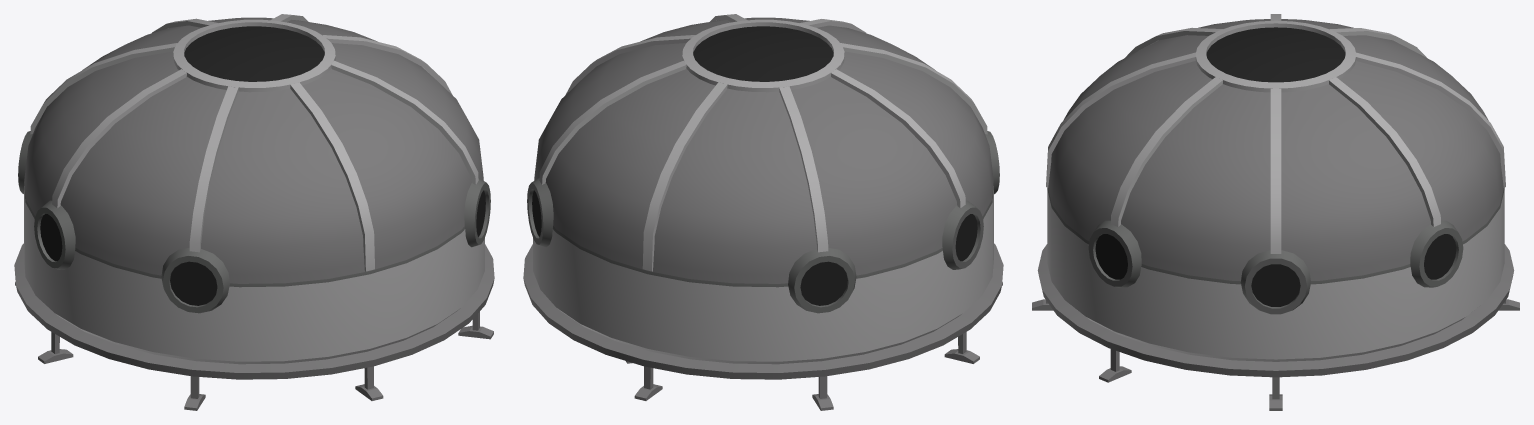
Rendered from Base_Large_Cube.obj.
The picture shows the model from 3 angles, left to right: view 1: azimuth 30°, elevation 25°; view 2: azimuth 150°, elevation 25°; view 3: azimuth 270°, elevation 25°; orthographic projection.
Visible parts, largest first — view 1: Base_Large_Cube.001; view 2: Base_Large_Cube.001; view 3: Base_Large_Cube.001.
Boxes of the visible parts, <box> form: Base_Large_Cube.001: <box>14,14,494,410</box>; Base_Large_Cube.001: <box>523,14,1003,410</box>; Base_Large_Cube.001: <box>1032,14,1519,410</box>.
Bounding box in the file's own units: 8.53 × 4.97 × 8.53.
